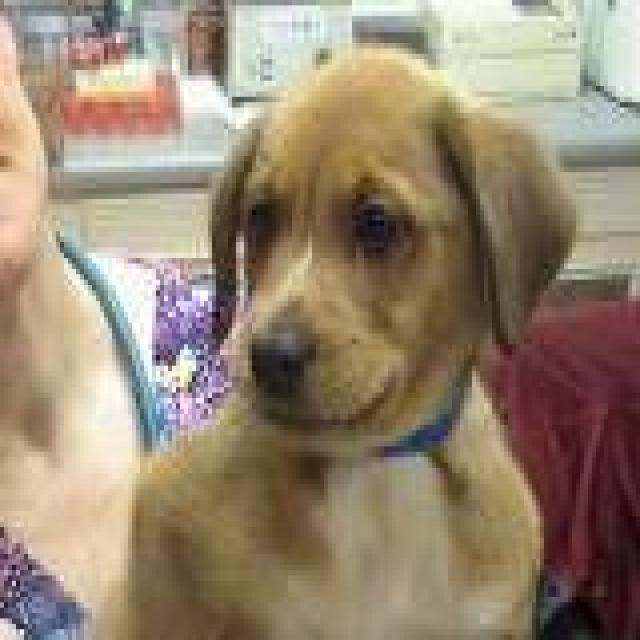dog: (124, 38, 576, 634)
